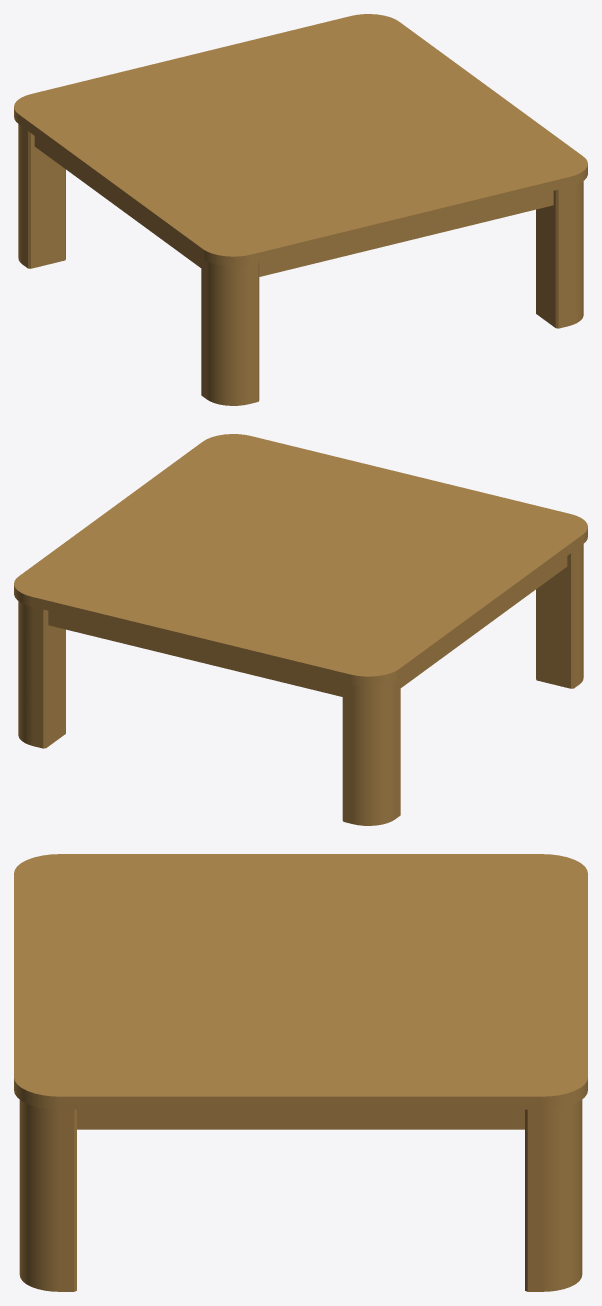
File: 637_こたつテーブル.glb
3 renders of one model, top to bottom at view 1: azimuth 30°, elevation 25°; view 2: azimuth 150°, elevation 25°; view 3: azimuth 270°, elevation 25°, orthographic. The views are drawn at different scales.
Parts seen in each view (by area): view 1: top, foot; view 2: top, foot; view 3: top, foot.
Part boxes in pixels (x1,y1,x2,y2): top: (14, 14, 587, 266); foot: (18, 124, 583, 405); top: (14, 434, 587, 686); foot: (18, 544, 583, 825); top: (14, 854, 587, 1109); foot: (19, 1100, 582, 1291).
Size of the model in its own units: 1 by 0.38 by 1.
